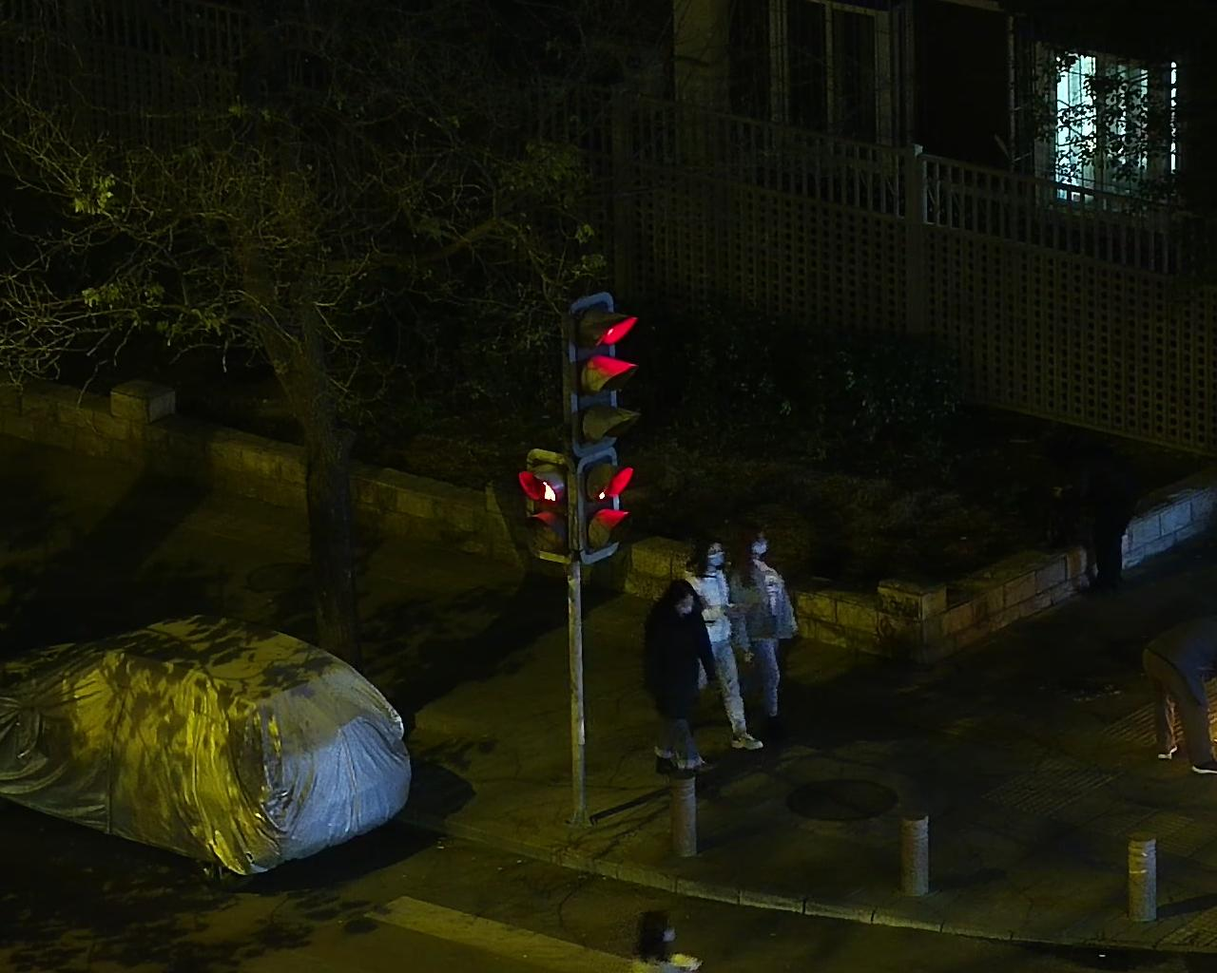person: (722, 526, 803, 741), (679, 542, 760, 754), (1042, 437, 1140, 602), (647, 589, 715, 805), (1132, 616, 1217, 771)
